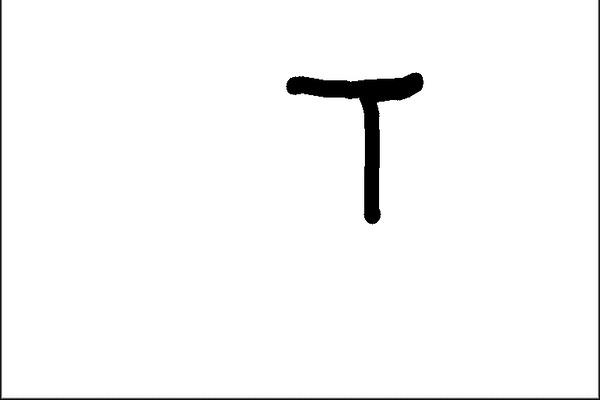T: (284, 62, 434, 230)
